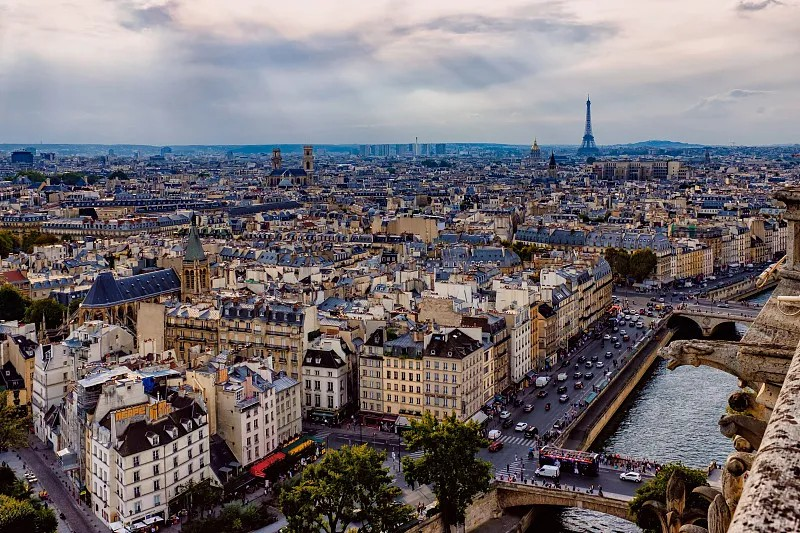Eiffel: (576, 93, 599, 156)
